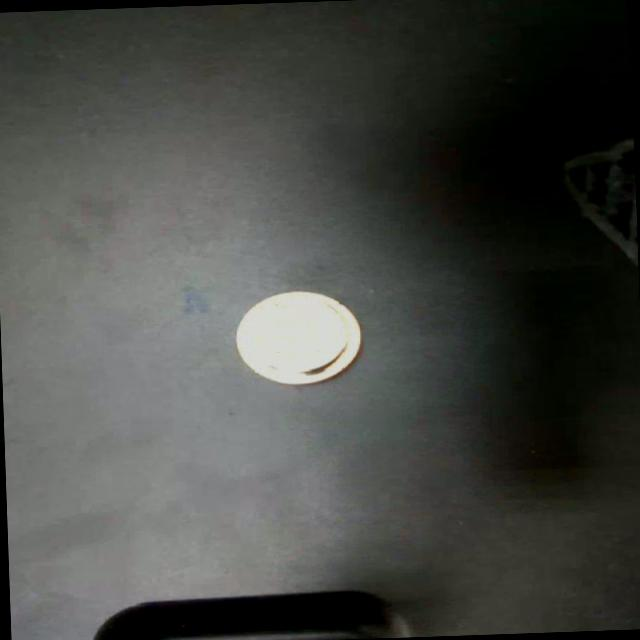sensor: (232, 287, 362, 387)
